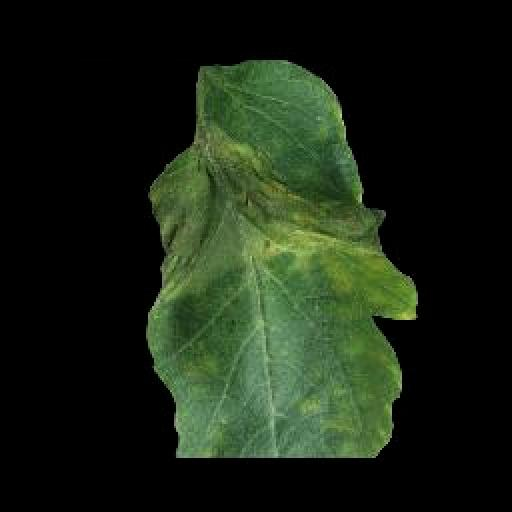disease_tomato: (140, 58, 422, 454)
